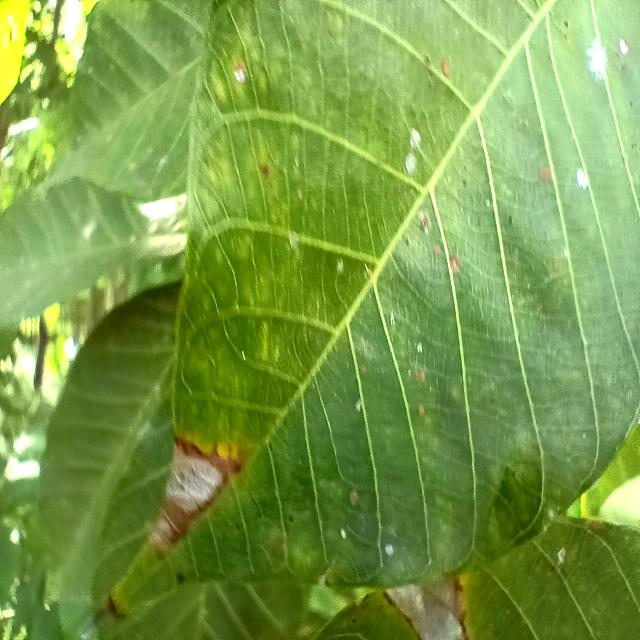Leaf-Blight: (154, 444, 224, 540), (382, 578, 463, 640)
